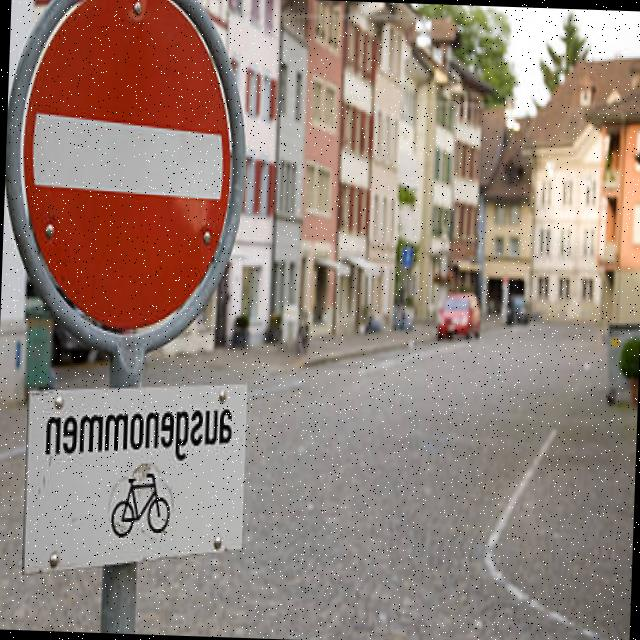do_not_enter: (22, 0, 249, 337)
